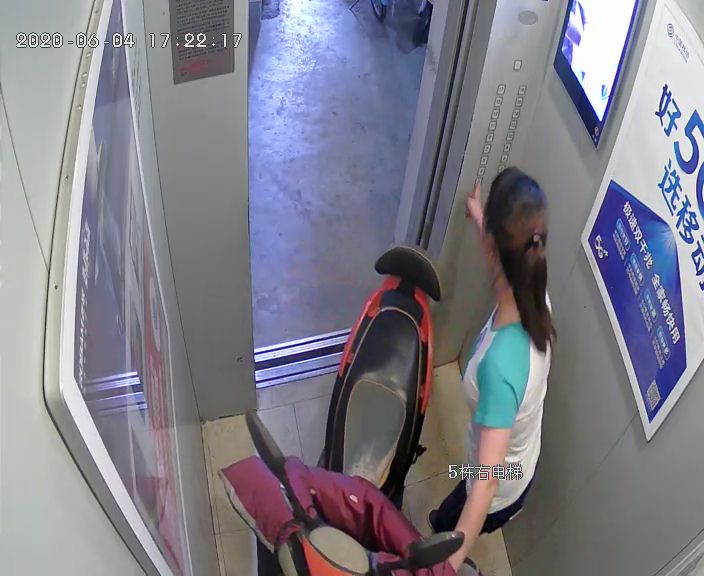Electric-bicycle: (248, 241, 471, 573)
